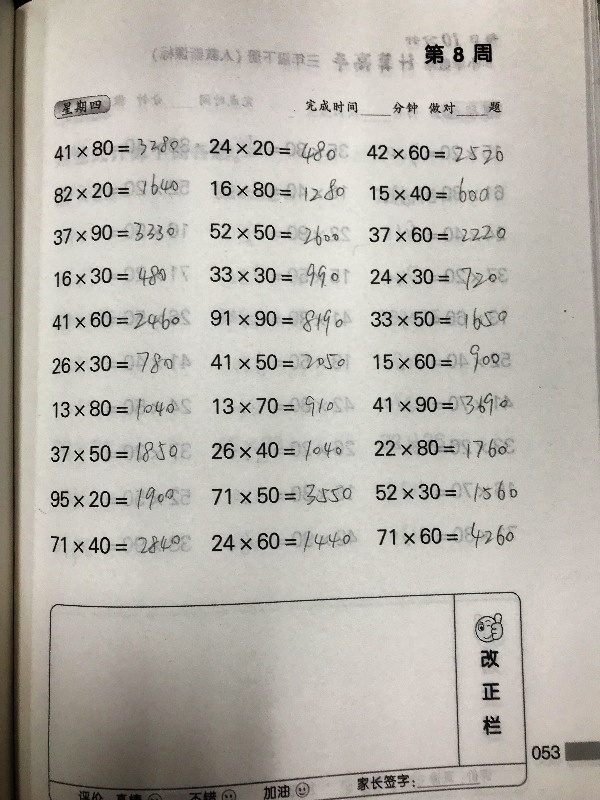equation: (370, 341, 515, 377), (374, 519, 522, 552), (207, 306, 347, 340), (367, 174, 508, 207), (207, 175, 348, 207), (193, 135, 339, 165), (368, 304, 512, 334), (209, 480, 356, 509), (369, 390, 514, 419), (367, 264, 507, 294), (372, 476, 519, 504), (209, 528, 355, 556), (208, 436, 346, 465), (47, 438, 187, 466), (49, 305, 184, 334), (363, 141, 507, 168), (49, 219, 191, 246), (371, 436, 518, 462), (49, 347, 176, 377), (206, 220, 342, 248), (42, 483, 180, 510), (50, 173, 182, 201), (48, 532, 187, 558), (49, 396, 182, 423), (206, 262, 344, 288), (210, 392, 338, 420), (207, 349, 349, 373), (50, 135, 185, 160), (50, 262, 169, 290), (365, 222, 509, 245)
